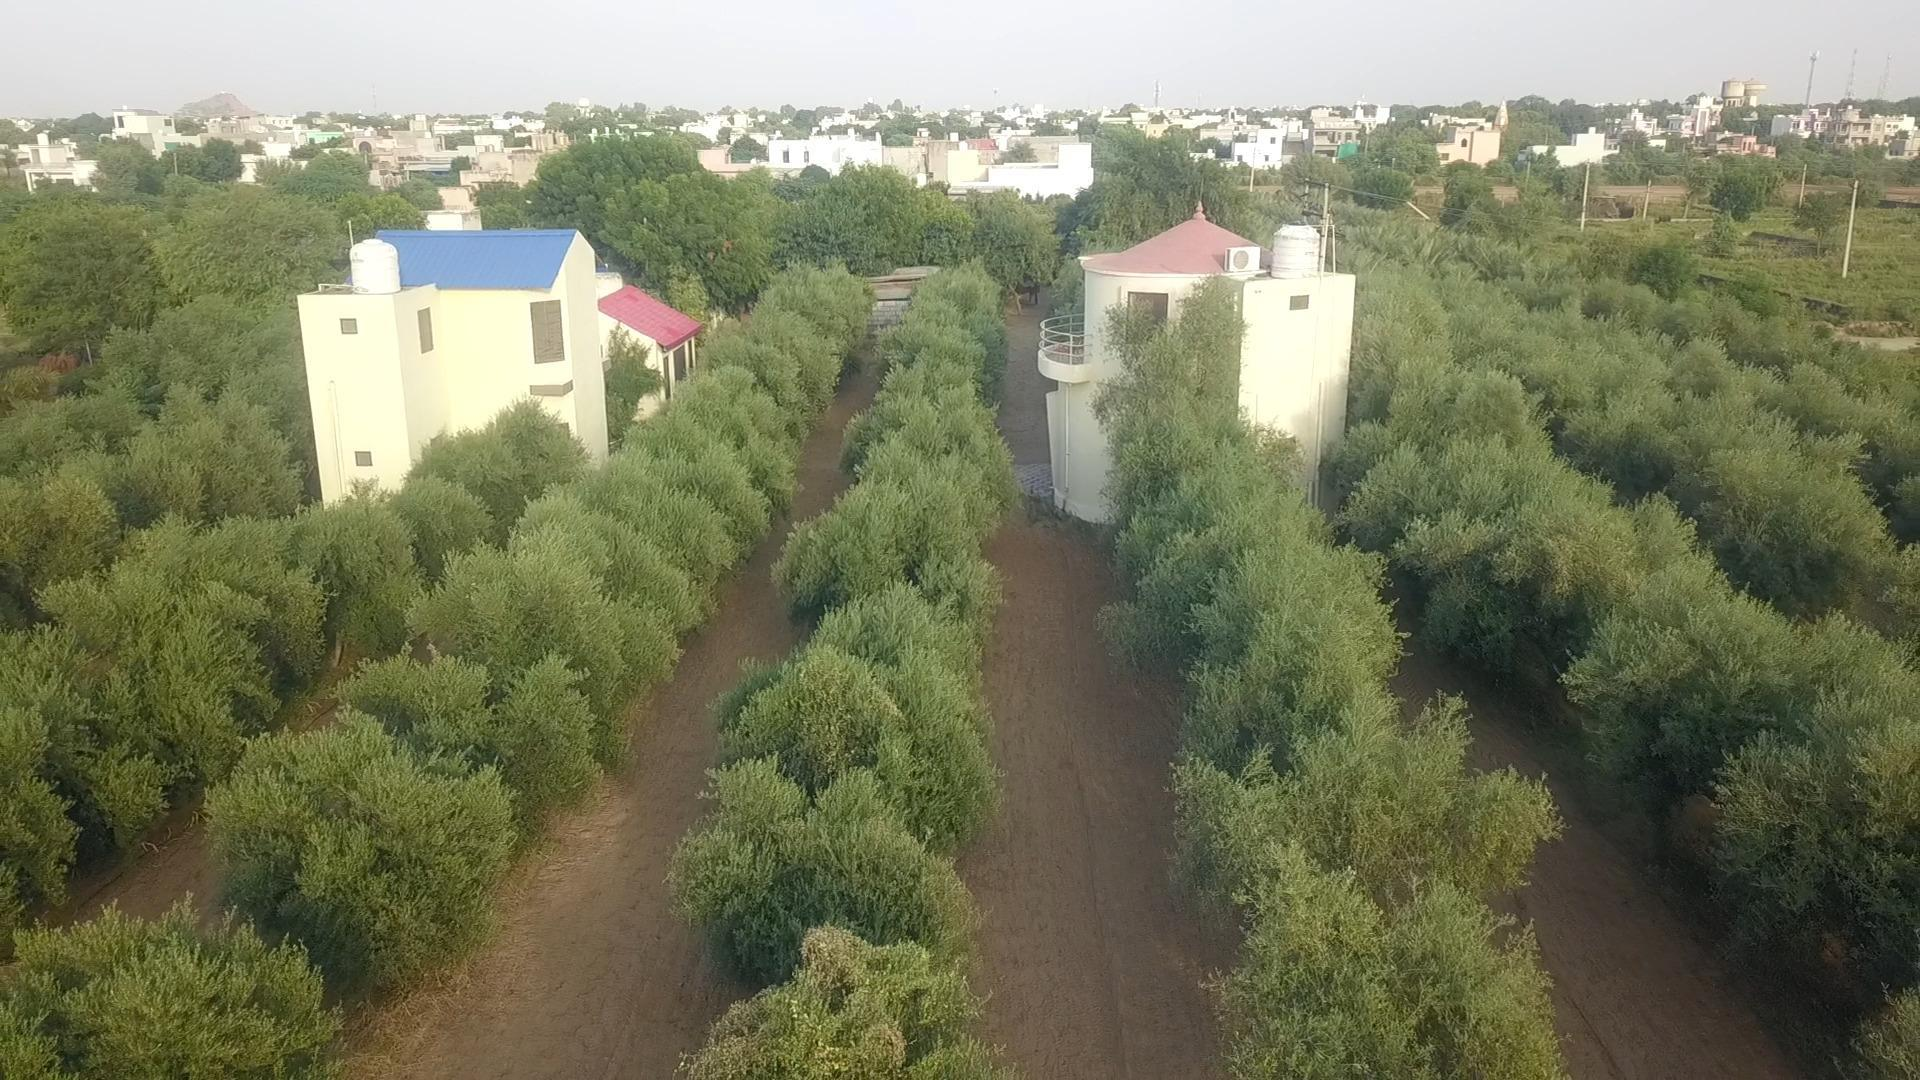canopy: (0, 266, 868, 1079), (1328, 309, 1919, 980), (1095, 286, 1565, 1079), (0, 404, 588, 927), (669, 264, 1015, 1079), (1456, 303, 1919, 636)
road: (351, 533, 795, 1079), (1394, 655, 1809, 1079), (961, 506, 1236, 1079)
